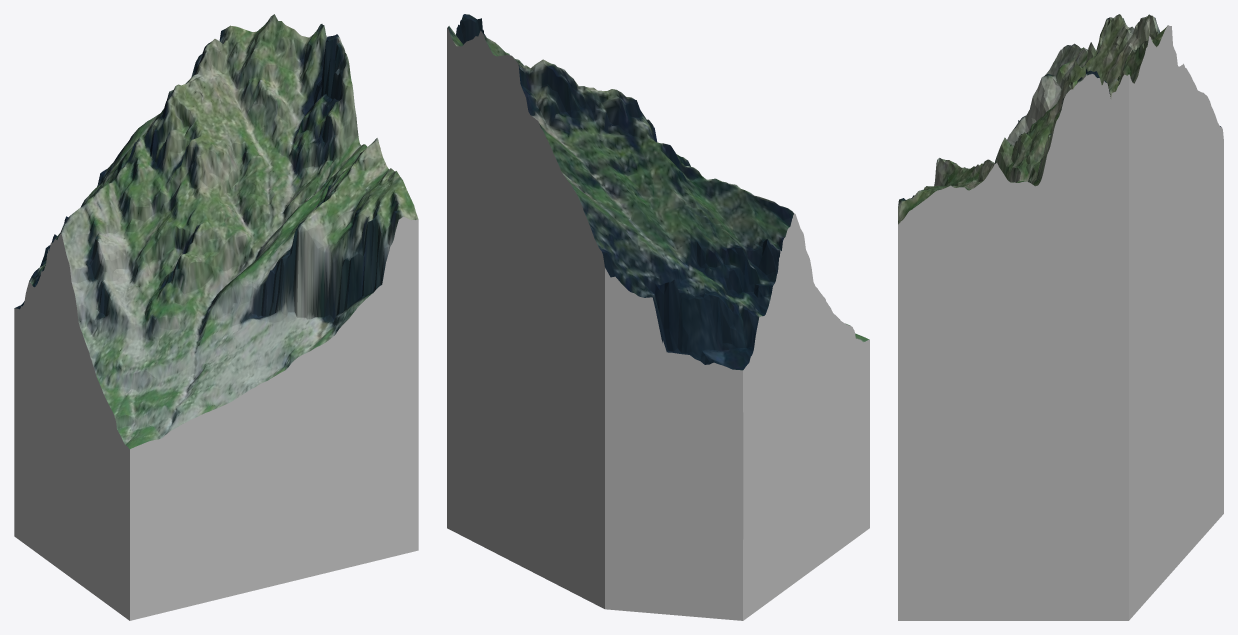
File: GrindScene11.gltf
3 renders of one model, left to right at view 1: azimuth 30°, elevation 25°; view 2: azimuth 150°, elevation 25°; view 3: azimuth 270°, elevation 25°, orthographic. The views are drawn at different scales.
Visible parts, largest first — view 1: Plane; view 2: Plane; view 3: Plane.
Part boxes in pixels (box(x1,y1,x2,y2)): Plane: box(14, 14, 418, 620); Plane: box(447, 14, 869, 620); Plane: box(898, 14, 1223, 620).
Size of the model in its own units: 0.6 by 0.9316 by 0.4897.
2 materials, 1 textured.
